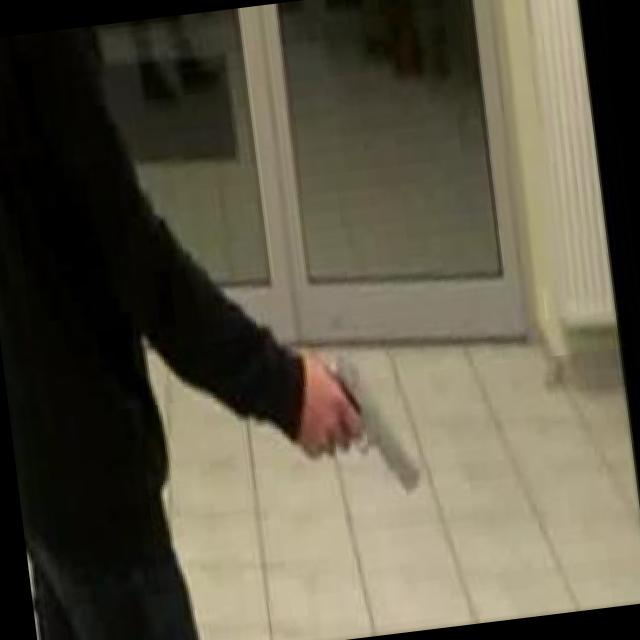Guns: (303, 326, 430, 512)
